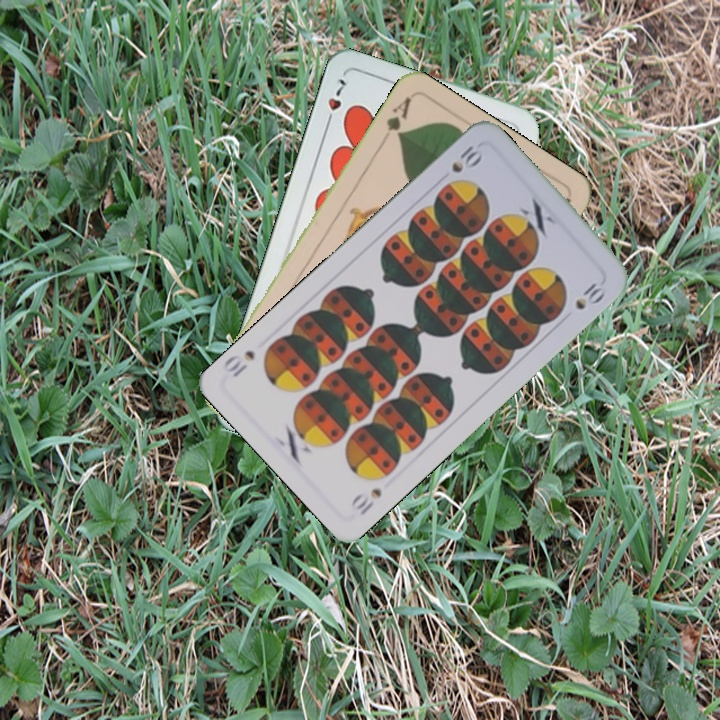GA: (382, 92, 414, 140)
H7: (321, 74, 349, 130)
S10: (447, 139, 486, 176), (346, 484, 385, 518)
